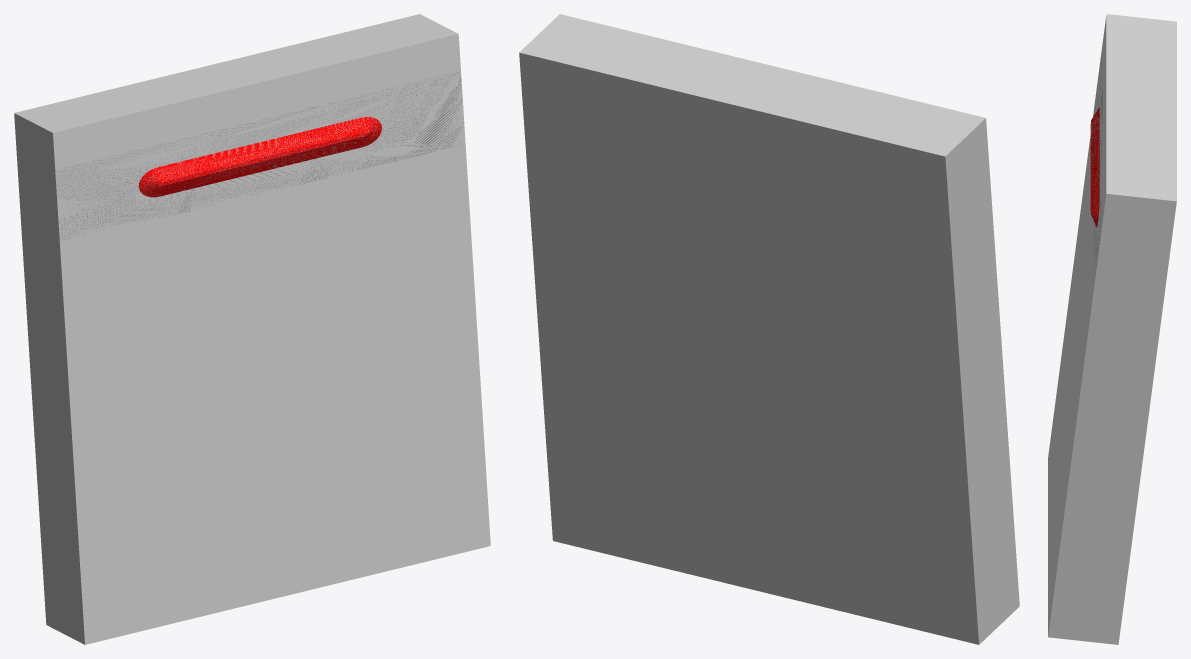
Rendered from original-3.obj.
3 views of the same model, side by side, from view 1: azimuth 30°, elevation 25°; view 2: azimuth 150°, elevation 25°; view 3: azimuth 270°, elevation 25° (orthographic). The views are drawn at different scales.
Parts seen in each view (by area): view 1: Group3/mesh7/mesh7-geometry#mesh7-geometry; view 2: Group3/mesh7/mesh7-geometry#mesh7-geometry; view 3: Group3/mesh7/mesh7-geometry#mesh7-geometry.
Part boxes in pixels (x1,y1,x2,y2): Group3/mesh7/mesh7-geometry#mesh7-geometry: (14,14,490,644); Group3/mesh7/mesh7-geometry#mesh7-geometry: (519,14,1019,644); Group3/mesh7/mesh7-geometry#mesh7-geometry: (1048,14,1176,644).
Size of the model in its own units: 0.5675 by 0.664 by 0.1718.
